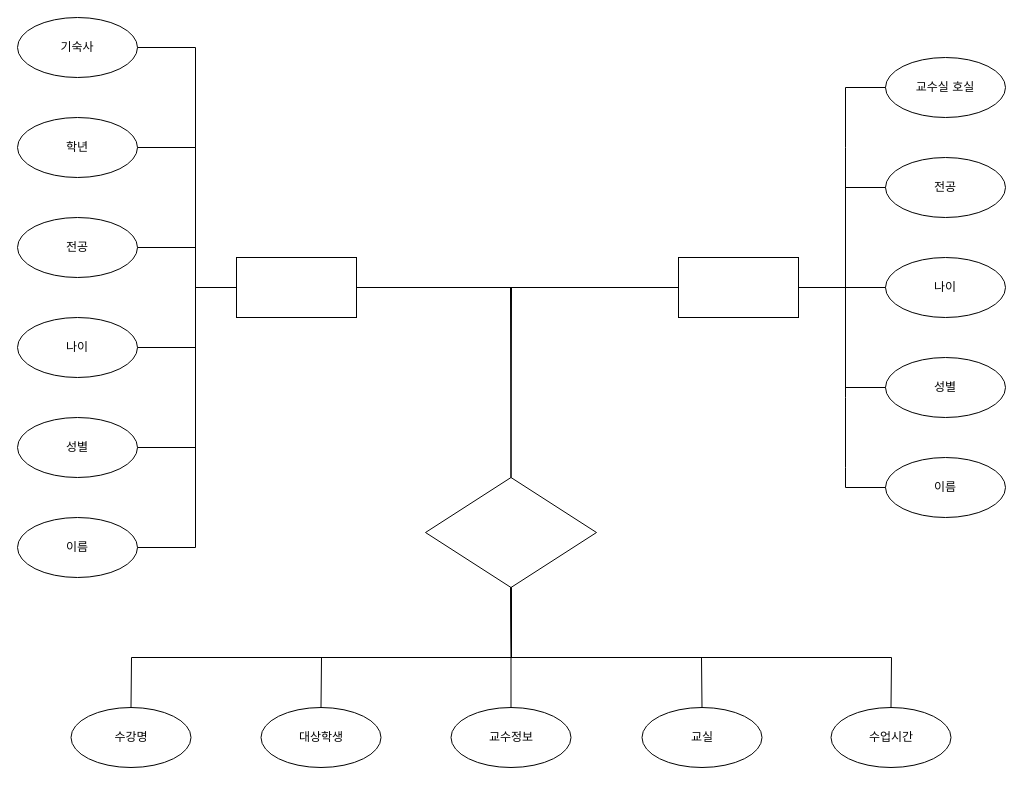
The diagram is 1023 pixels wide and 785 high, and some of its shapes have lost their labels. The shapes that lost their labels are listed below. From the top down, each one's centre as x and y in pixels, then its label:
At point (296, 287): "학생".
At point (738, 287): "교수".
At point (510, 532): "수강신청".
